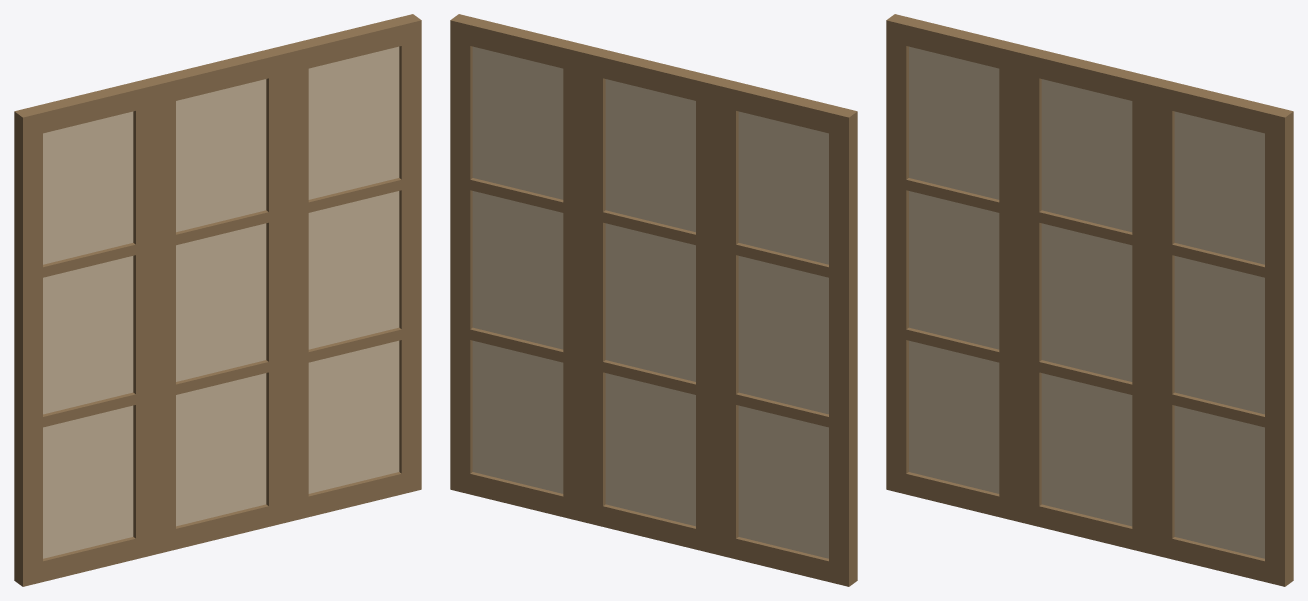
Rendered from SM_Prop_Divider_Folding_01.glb.
The picture shows the model from 3 angles, left to right: view 1: azimuth 30°, elevation 25°; view 2: azimuth 150°, elevation 25°; view 3: azimuth 330°, elevation 25°; orthographic projection.
Visible parts, largest first — view 1: SM_Prop_JapaneseDivider_Folding_01_1, SM_Prop_Divider_Folding_01, SM_Prop_JapaneseDivider_Folding_01_2; view 2: SM_Prop_JapaneseDivider_Folding_01_1, SM_Prop_Divider_Folding_01, SM_Prop_JapaneseDivider_Folding_01_2; view 3: SM_Prop_Divider_Folding_01, SM_Prop_JapaneseDivider_Folding_01_1, SM_Prop_JapaneseDivider_Folding_01_2.
Boxes of the visible parts, x1=… form: SM_Prop_JapaneseDivider_Folding_01_1: x1=14, y1=79, x2=155, y2=586; SM_Prop_Divider_Folding_01: x1=280, y1=14, x2=421, y2=521; SM_Prop_JapaneseDivider_Folding_01_2: x1=147, y1=46, x2=288, y2=554; SM_Prop_JapaneseDivider_Folding_01_1: x1=716, y1=79, x2=857, y2=586; SM_Prop_Divider_Folding_01: x1=450, y1=14, x2=591, y2=521; SM_Prop_JapaneseDivider_Folding_01_2: x1=583, y1=46, x2=724, y2=554; SM_Prop_Divider_Folding_01: x1=1152, y1=79, x2=1293, y2=586; SM_Prop_JapaneseDivider_Folding_01_1: x1=886, y1=14, x2=1027, y2=521; SM_Prop_JapaneseDivider_Folding_01_2: x1=1019, y1=46, x2=1160, y2=554.
Bounding box in the file's own units: 1.73 × 1.95 × 0.065.
3 materials, 3 textured.
